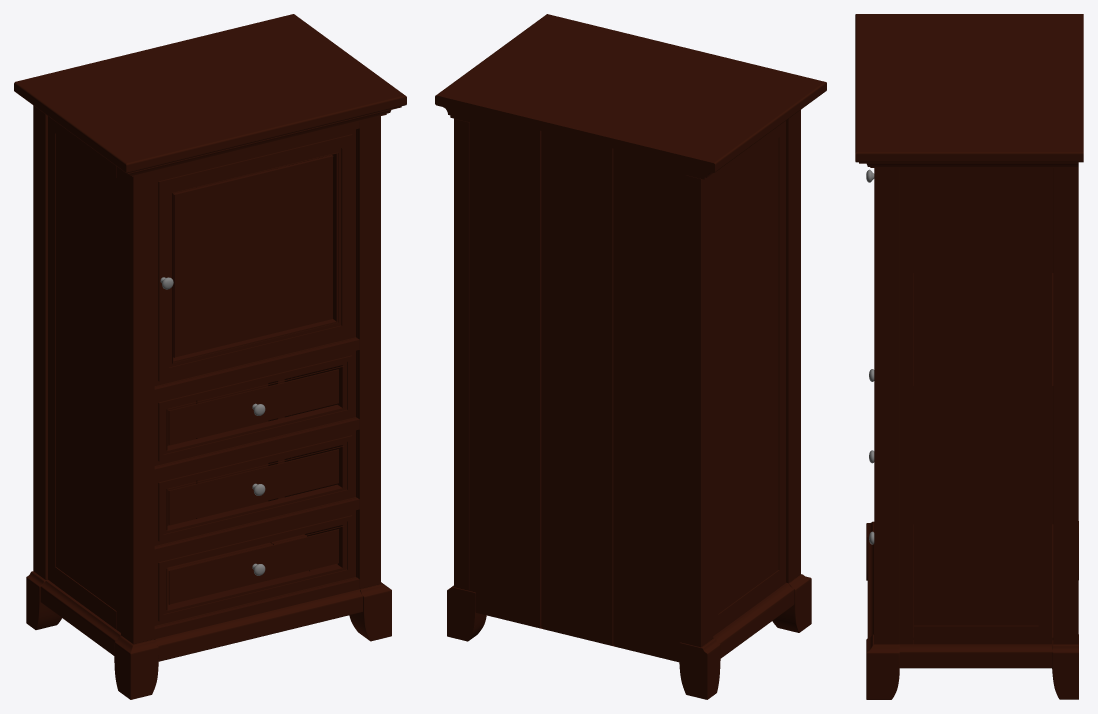
The picture shows the model from 3 angles, left to right: view 1: azimuth 30°, elevation 25°; view 2: azimuth 150°, elevation 25°; view 3: azimuth 270°, elevation 25°; orthographic projection. The views are drawn at different scales.
Visible parts, largest first — view 1: 3d66-PolyMeshObject-22848589-014, 3d66-Editable_mesh-22848589-345; view 2: 3d66-PolyMeshObject-22848589-014, 3d66-Editable_mesh-22848589-345; view 3: 3d66-PolyMeshObject-22848589-014, 3d66-Editable_mesh-22848589-345.
Boxes of the visible parts, left/top/right/bottom form: 3d66-PolyMeshObject-22848589-014: left=26, top=105, right=391, bottom=699; 3d66-Editable_mesh-22848589-345: left=14, top=14, right=406, bottom=661; 3d66-PolyMeshObject-22848589-014: left=447, top=110, right=811, bottom=699; 3d66-Editable_mesh-22848589-345: left=435, top=14, right=826, bottom=658; 3d66-PolyMeshObject-22848589-014: left=866, top=168, right=1078, bottom=699; 3d66-Editable_mesh-22848589-345: left=855, top=14, right=1083, bottom=668.
Bounding box in the file's own units: 64.97 × 120 × 44.95.
